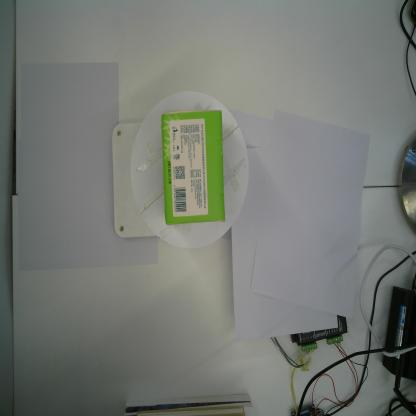Tissue: (159, 108, 226, 229)
